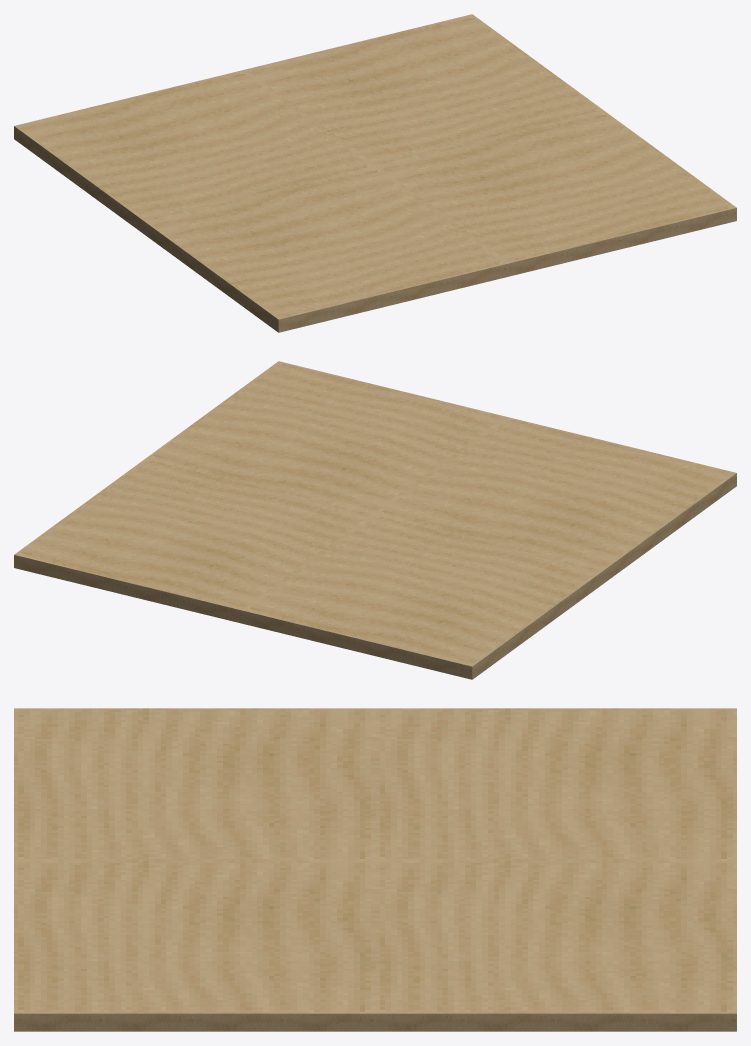
Rendered from ground_sand.glb.
3 views of the same model, one above another, from view 1: azimuth 30°, elevation 25°; view 2: azimuth 150°, elevation 25°; view 3: azimuth 270°, elevation 25° (orthographic). The views are drawn at different scales.
Parts seen in each view (by area): view 1: ground_sand; view 2: ground_sand; view 3: ground_sand.
Boxes of the visible parts, x1,y1,x2,y2 form: ground_sand: (14,14,736,332); ground_sand: (14,361,736,679); ground_sand: (14,708,736,1031).
Size of the model in its own units: 4 by 0.11 by 4.
Materials: 1 (1 with a texture image).
